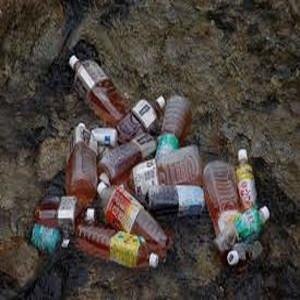Plastic: (66, 52, 126, 122), (77, 224, 159, 273), (68, 123, 99, 198)
